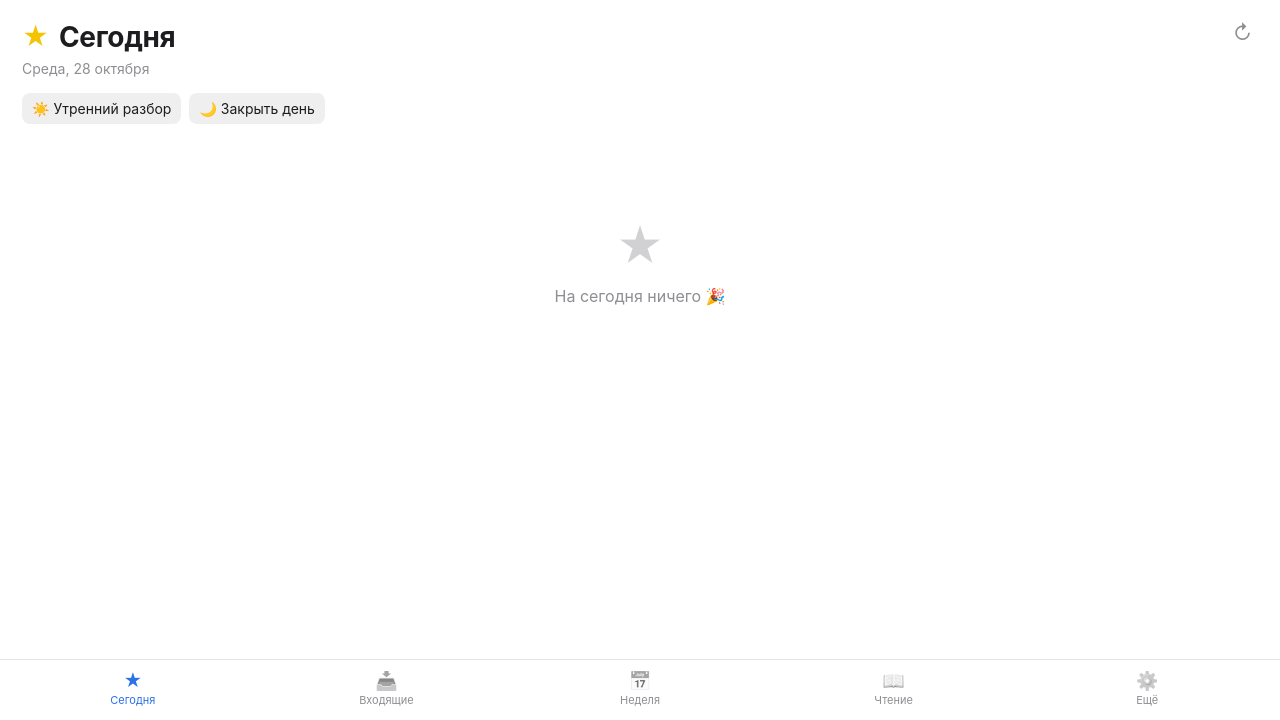
Scenario: Ещё: статистика и настройки › выключенный вечер — время не выбрать
Click the tab "⚙️ Ещё". click: point(1147, 689)
box: [1020,666,1274,712]
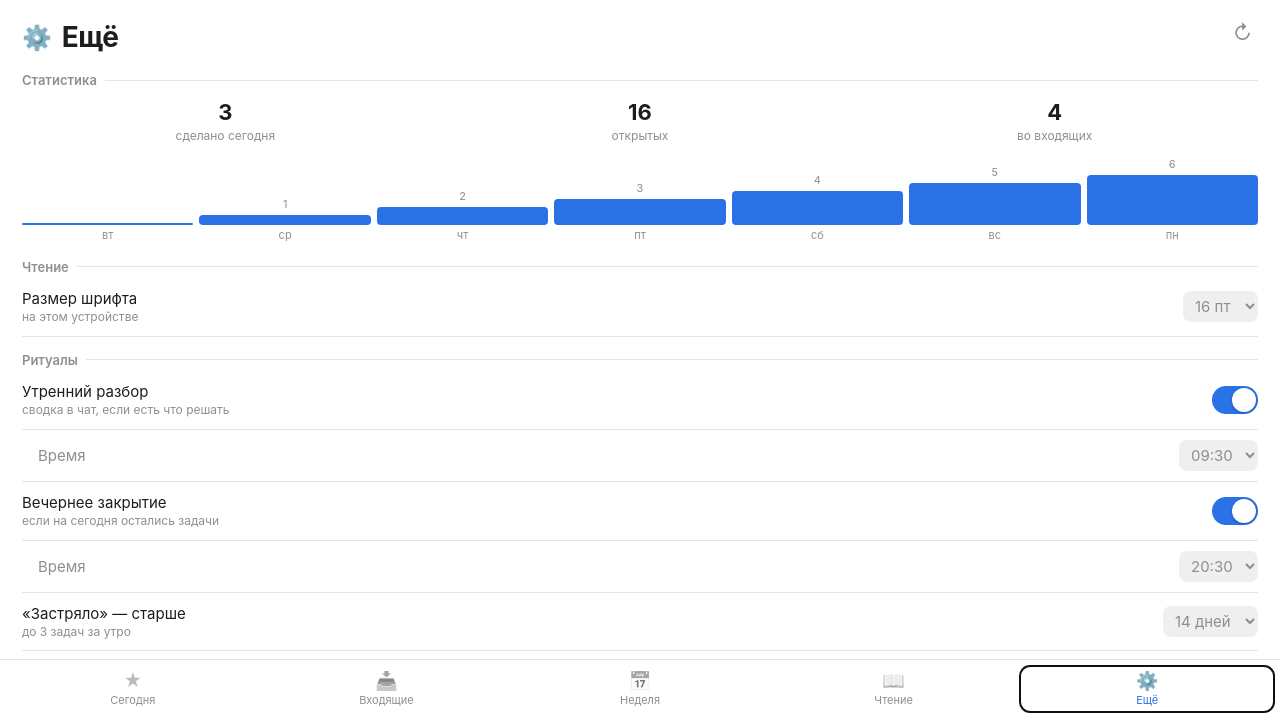
Expected: the text "сделано сегодня" is shown, [176,128,275,143]
Click the switch named "Вечернее закрытие". click: point(1235, 511)
box: [1212,497,1258,525]
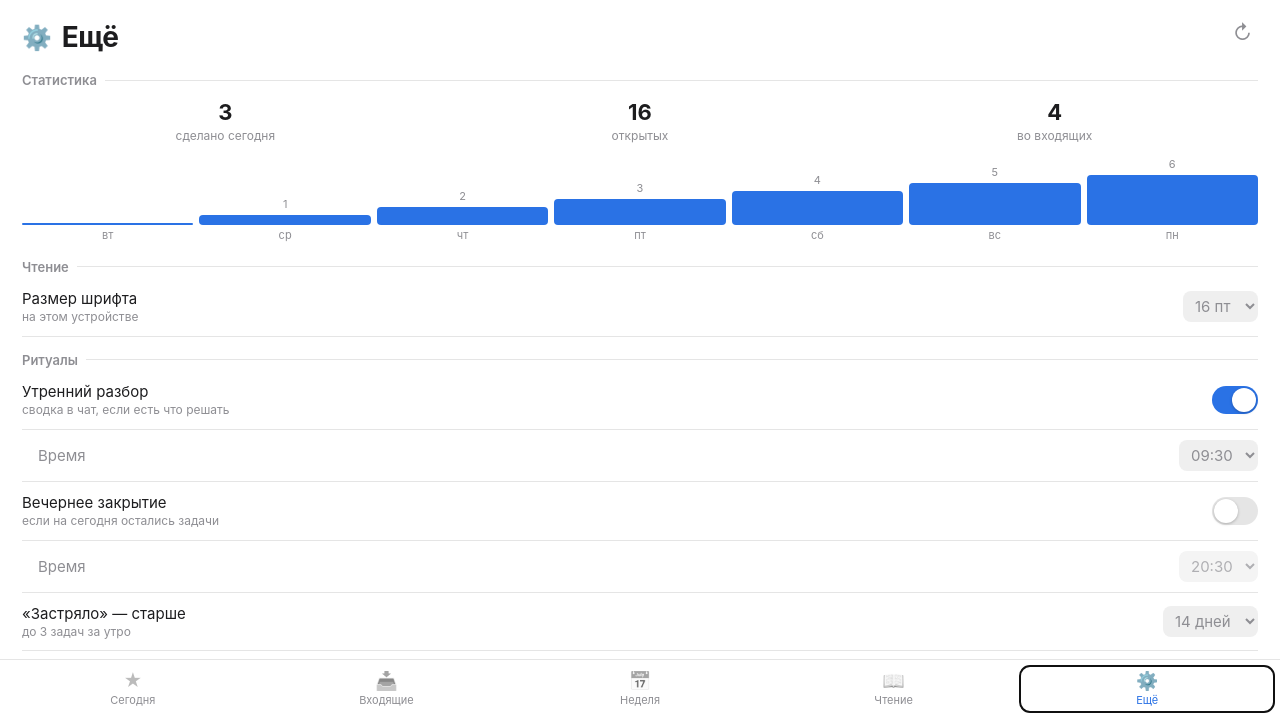
Expected: the dropdown named "Время вечерней сводки" is disabled, [1179,550,1258,582]
